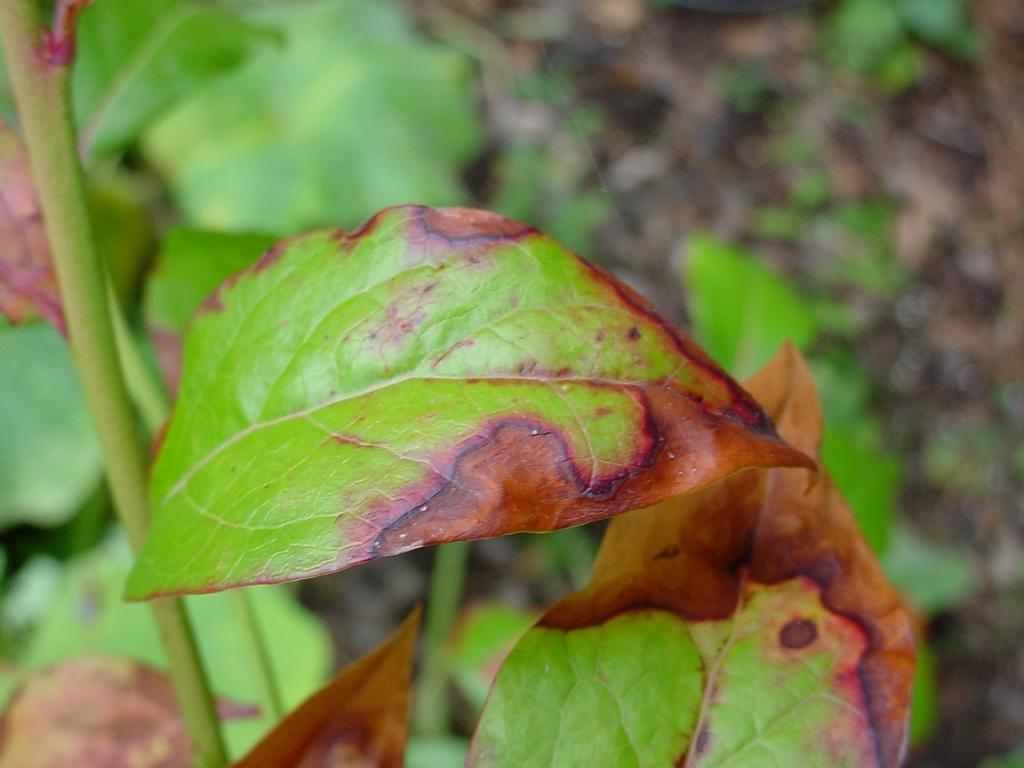Blueberry leaf: (106, 194, 876, 617), (467, 341, 981, 768)
